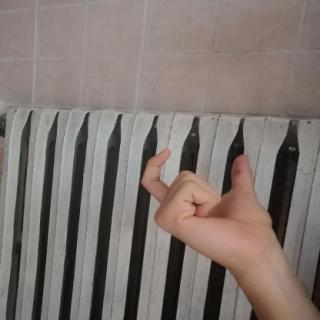NOON: (128, 140, 284, 276)
